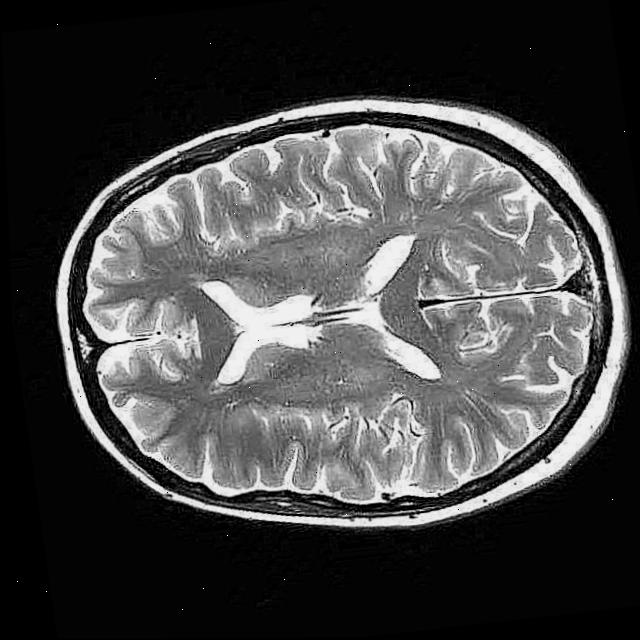NoTumor: (21, 63, 640, 574)
